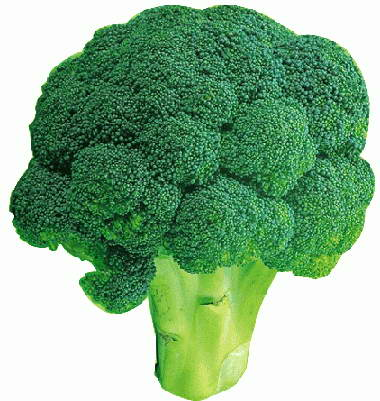broccoli: (8, 3, 374, 399)
